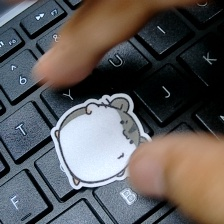mouse: (47, 85, 166, 190)
